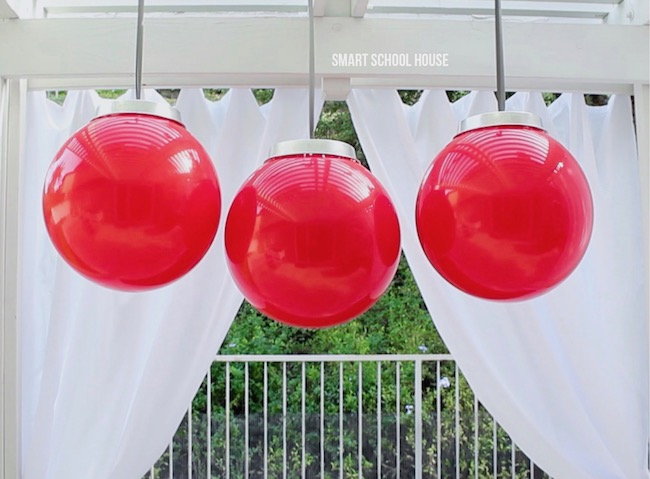red ball: (40, 115, 225, 292), (412, 126, 593, 304), (223, 153, 402, 329)
